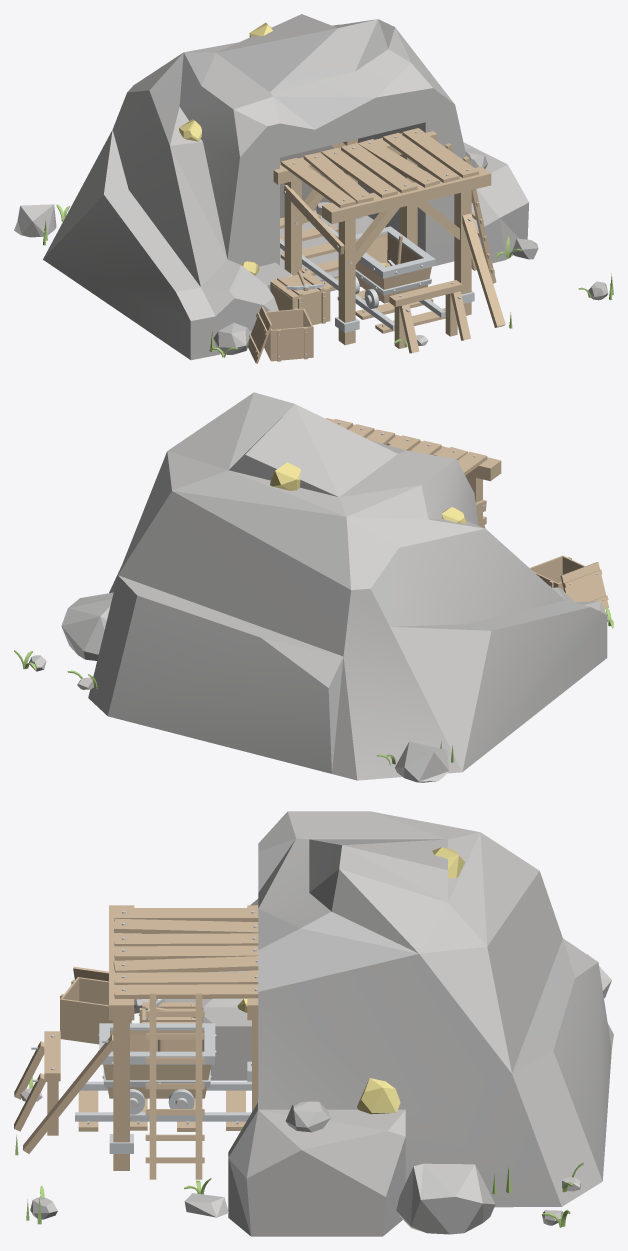
Rendered from Mines_Mesh.fbx.
3 renders of one model, top to bottom at view 1: azimuth 30°, elevation 25°; view 2: azimuth 150°, elevation 25°; view 3: azimuth 270°, elevation 25°, orthographic. The views are drawn at different scales.
Visible parts, largest first — view 1: Mines; view 2: Mines; view 3: Mines.
Boxes of the visible parts, left/top/right/bottom form: Mines: left=14, top=14, right=613, bottom=363; Mines: left=14, top=392, right=613, bottom=782; Mines: left=14, top=811, right=613, bottom=1236.
Bounding box in the file's own units: 736 × 411 × 749.
